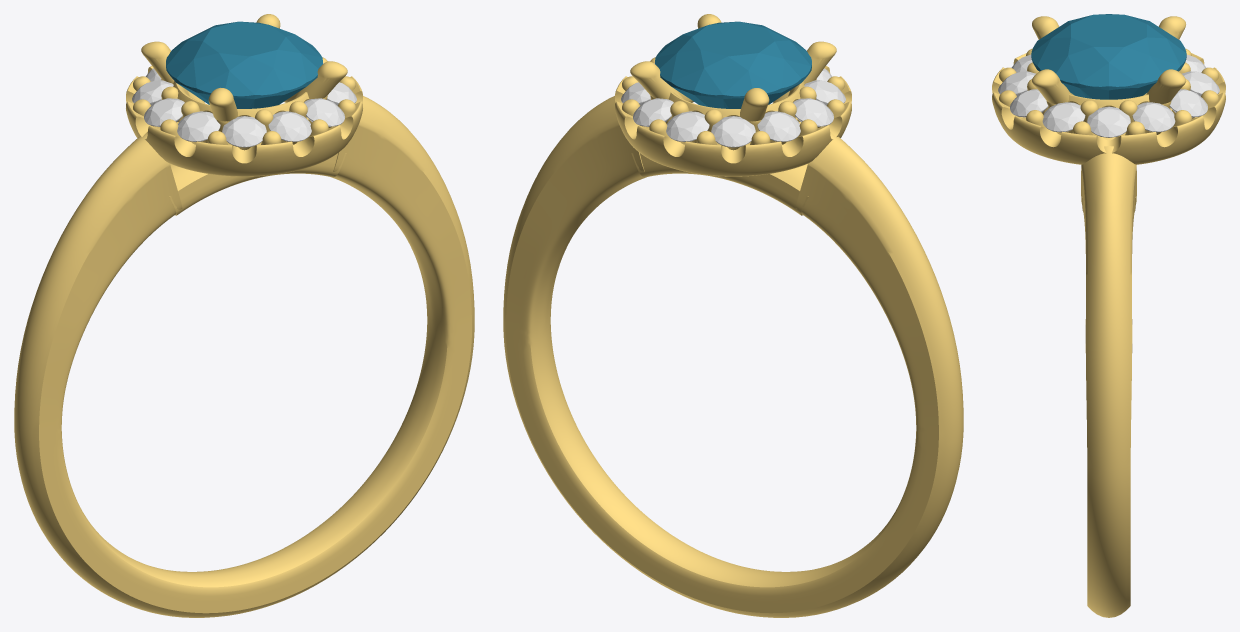
The model's file is MeghanHaloYG.glb.
The picture shows the model from 3 angles, left to right: view 1: azimuth 30°, elevation 25°; view 2: azimuth 150°, elevation 25°; view 3: azimuth 270°, elevation 25°; orthographic projection.
Parts seen in each view (by area): view 1: Meghan YG halo for 3d model, Meghan sapph halo for 3d model, Meghan dia halo for 3d model.004, Meghan dia halo for 3d model.005, Meghan dia halo for 3d model.003, Meghan dia halo for 3d model.002, Meghan dia halo for 3d model.006; view 2: Meghan YG halo for 3d model, Meghan sapph halo for 3d model, Meghan dia halo for 3d model, Meghan dia halo for 3d model.011, Meghan dia halo for 3d model.001, Meghan dia halo for 3d model.002, Meghan dia halo for 3d model.010; view 3: Meghan YG halo for 3d model, Meghan sapph halo for 3d model, Meghan dia halo for 3d model.008, Meghan dia halo for 3d model.007, Meghan dia halo for 3d model.009, Meghan dia halo for 3d model.006, Meghan dia halo for 3d model.010, Meghan dia halo for 3d model.005, Meghan dia halo for 3d model.011.
Part boxes in pixels (left/top/right/bottom): Meghan YG halo for 3d model: left=14, top=14, right=474, bottom=617; Meghan sapph halo for 3d model: left=166, top=21, right=322, bottom=108; Meghan dia halo for 3d model.004: left=222, top=116, right=266, bottom=147; Meghan dia halo for 3d model.005: left=268, top=111, right=311, bottom=141; Meghan dia halo for 3d model.003: left=177, top=111, right=220, bottom=141; Meghan dia halo for 3d model.002: left=144, top=98, right=184, bottom=126; Meghan dia halo for 3d model.006: left=304, top=98, right=344, bottom=126; Meghan YG halo for 3d model: left=503, top=14, right=963, bottom=617; Meghan sapph halo for 3d model: left=655, top=21, right=811, bottom=108; Meghan dia halo for 3d model: left=711, top=116, right=755, bottom=147; Meghan dia halo for 3d model.011: left=666, top=111, right=709, bottom=141; Meghan dia halo for 3d model.001: left=757, top=111, right=800, bottom=141; Meghan dia halo for 3d model.002: left=793, top=98, right=833, bottom=126; Meghan dia halo for 3d model.010: left=633, top=98, right=673, bottom=126; Meghan YG halo for 3d model: left=992, top=16, right=1225, bottom=617; Meghan sapph halo for 3d model: left=1031, top=14, right=1186, bottom=99; Meghan dia halo for 3d model.008: left=1087, top=106, right=1130, bottom=137; Meghan dia halo for 3d model.007: left=1042, top=102, right=1085, bottom=132; Meghan dia halo for 3d model.009: left=1132, top=102, right=1175, bottom=132; Meghan dia halo for 3d model.006: left=1010, top=89, right=1048, bottom=117; Meghan dia halo for 3d model.010: left=1169, top=89, right=1207, bottom=117; Meghan dia halo for 3d model.005: left=998, top=71, right=1035, bottom=96; Meghan dia halo for 3d model.011: left=1182, top=71, right=1219, bottom=96.
Size of the model in its own units: 21.34 by 25.63 by 9.65.
